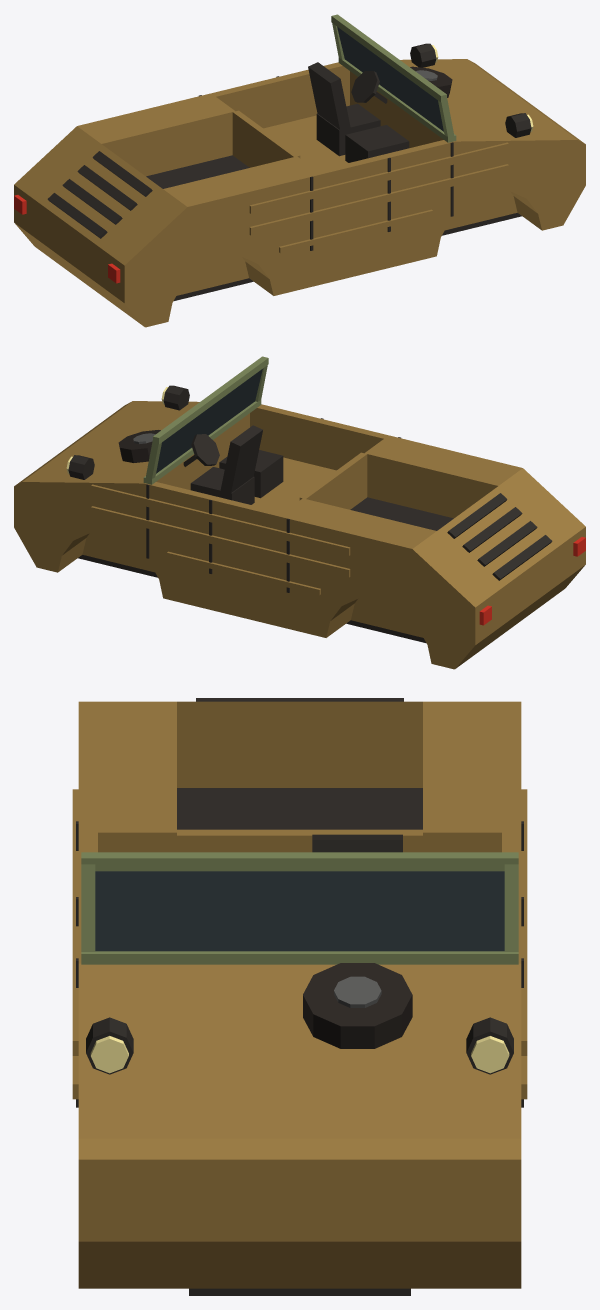
The model's file is base_jeep.glb.
3 renders of one model, top to bottom at view 1: azimuth 30°, elevation 25°; view 2: azimuth 150°, elevation 25°; view 3: azimuth 270°, elevation 25°, orthographic. The views are drawn at different scales.
Parts seen in each view (by area): view 1: base_jeep; view 2: base_jeep; view 3: base_jeep.
Part boxes in pixels (<box>): base_jeep: <box>14,14,585,327</box>; base_jeep: <box>14,356,585,669</box>; base_jeep: <box>72,698,527,1295</box>.
Bounding box in the file's own units: 4.51 × 1.54 × 1.91.
